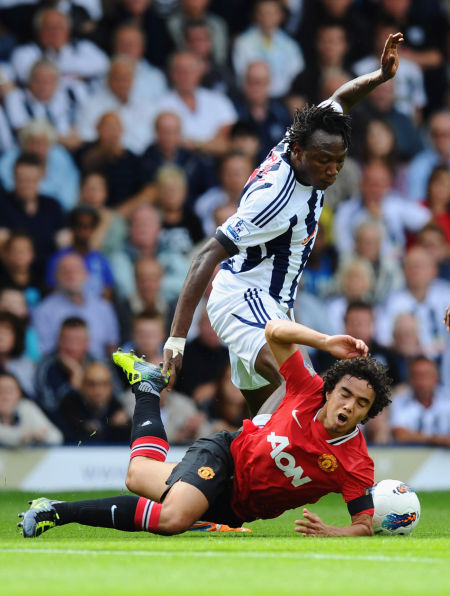10+: (1, 1, 450, 565)
down: (23, 345, 396, 555)
